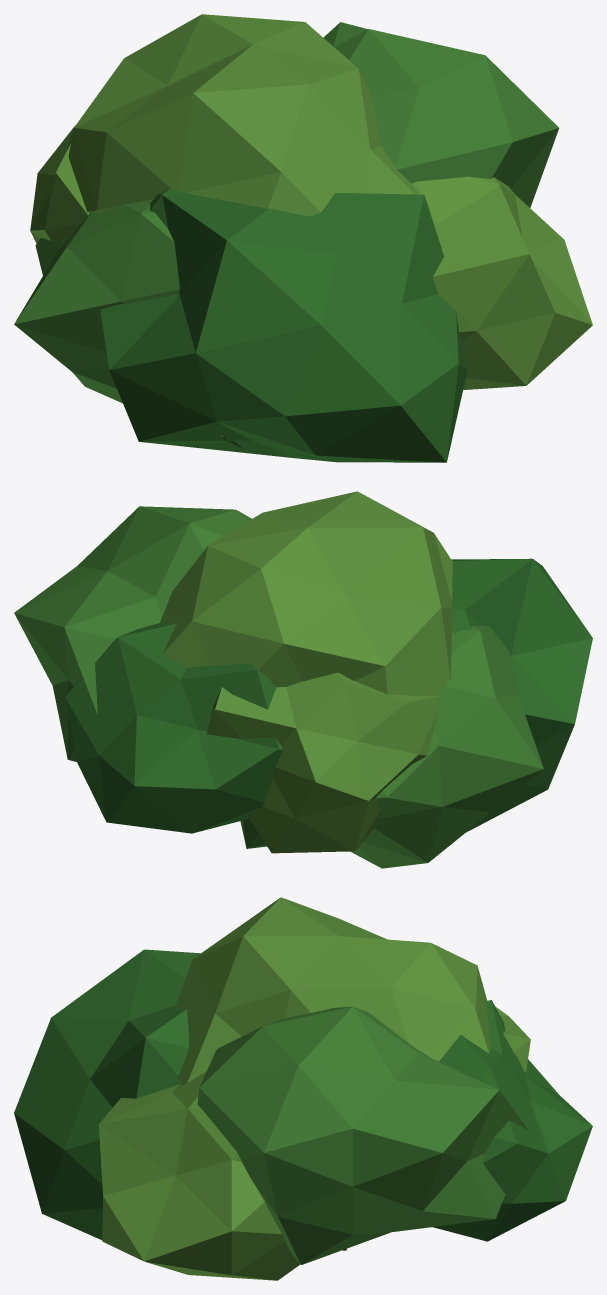
File: bush.glb
3 renders of one model, top to bottom at view 1: azimuth 30°, elevation 25°; view 2: azimuth 150°, elevation 25°; view 3: azimuth 270°, elevation 25°, orthographic. The views are drawn at different scales.
Visible parts, largest first — view 1: Bush; view 2: Bush; view 3: Bush.
Part boxes in pixels (<box>): Bush: <box>14,14,592,462</box>; Bush: <box>14,491,592,868</box>; Bush: <box>14,897,592,1280</box>.
Size of the model in its own units: 2.46 by 1.67 by 2.71.
